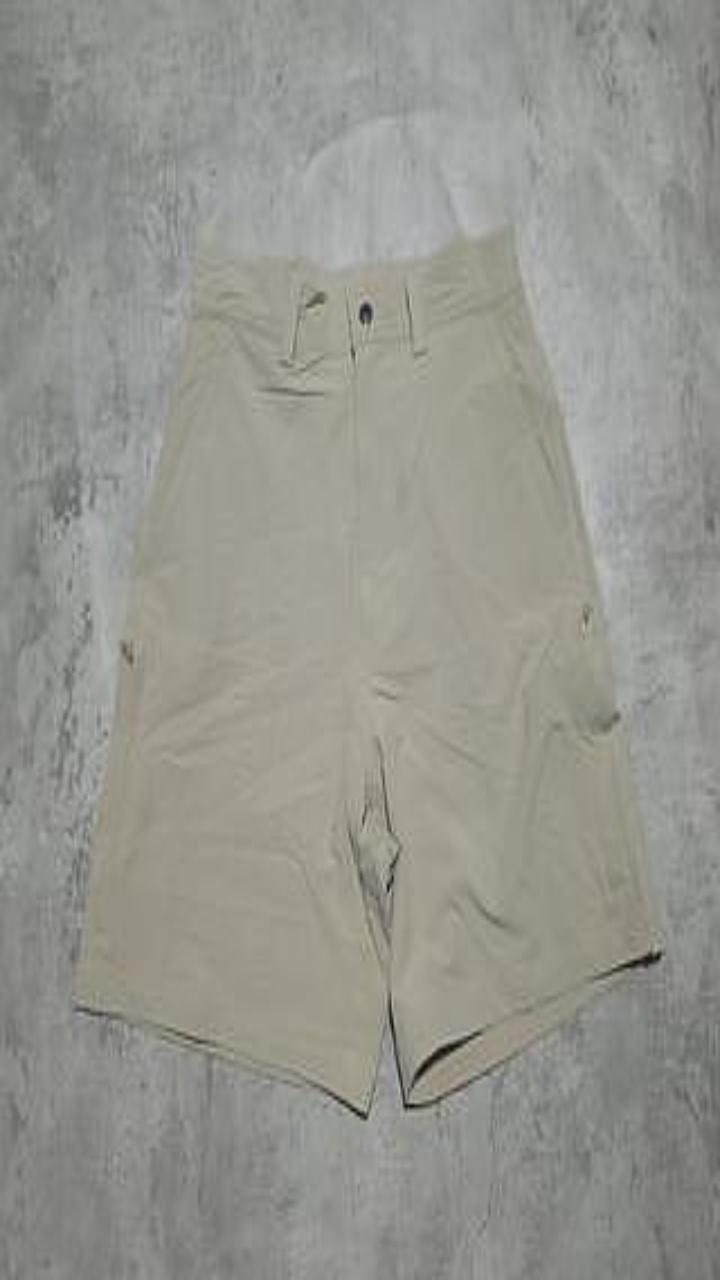Shorts: (74, 223, 663, 1114)
